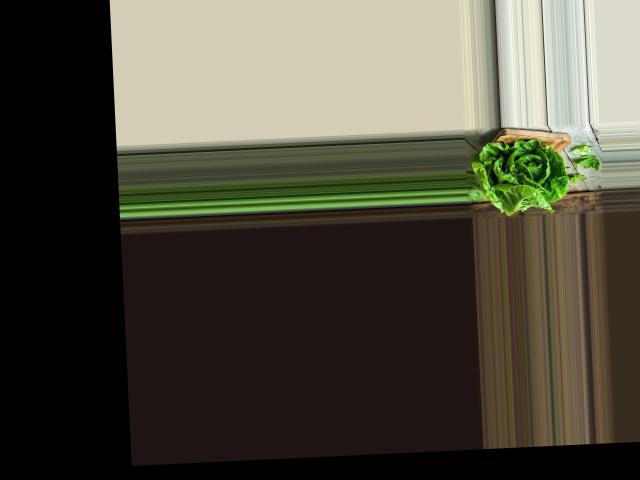lettuce: (468, 133, 565, 214)
